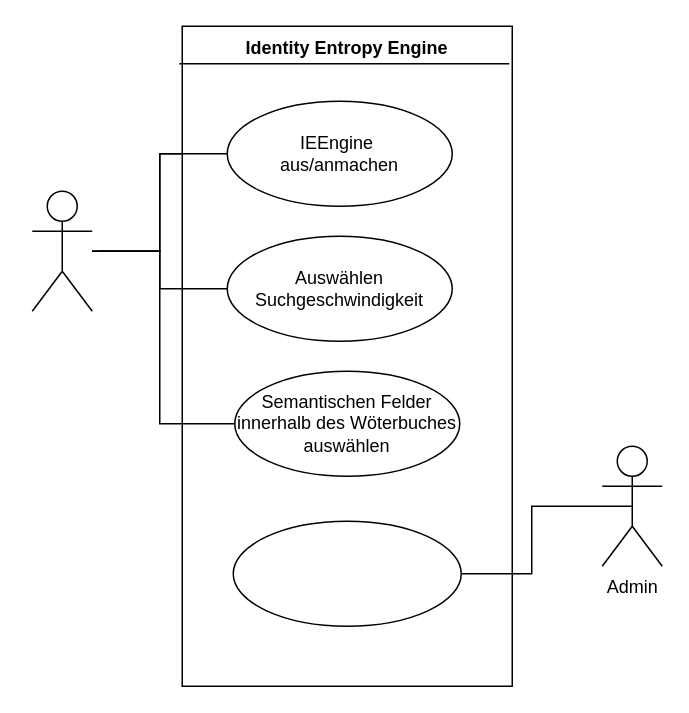
Some shapes in this 689 by 713 pixel diagram are drawn without their labels. Here are the shapes that lost their labels. From the top down, the box of each, then its label:
(31, 190, 92, 311): Benutzer
(232, 520, 461, 626): Wörterbuch ändern/aktualiseren
